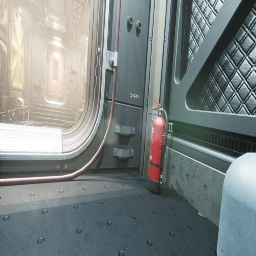FireExtinguisher ]: (148, 100, 168, 194)
NitrogenTank ,: (18, 102, 23, 122)
